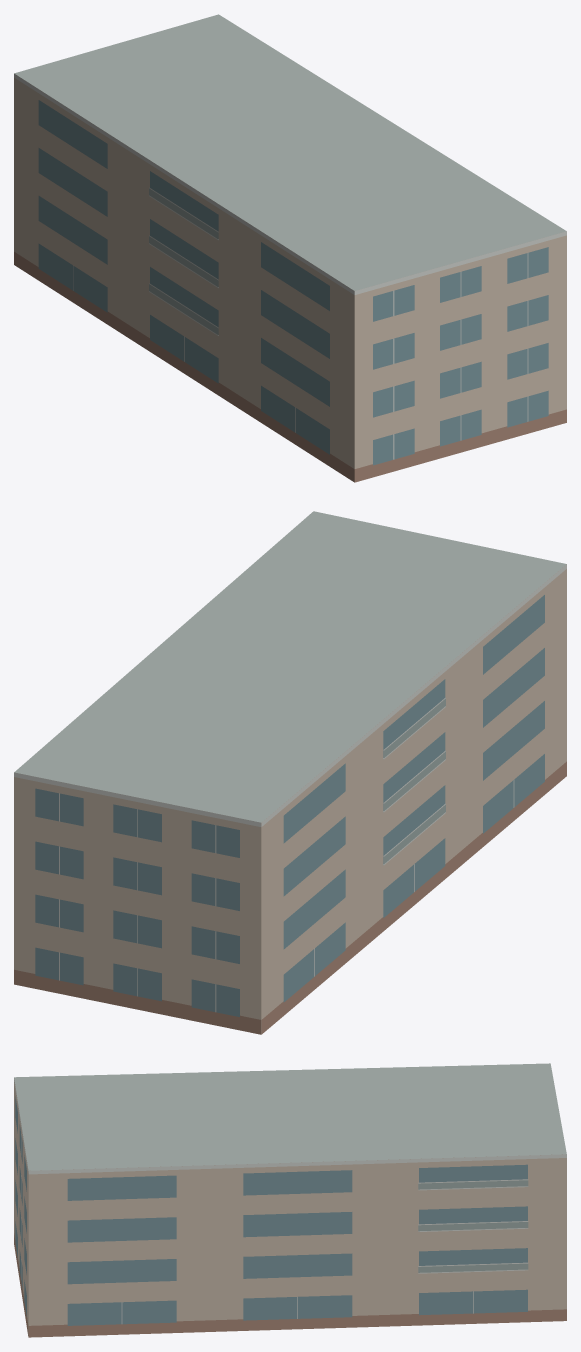
Rendered from survey-upis-32918815.glb.
3 renders of one model, top to bottom at view 1: azimuth 30°, elevation 25°; view 2: azimuth 150°, elevation 25°; view 3: azimuth 270°, elevation 25°, orthographic. The views are drawn at different scales.
Visible parts, largest first — view 1: survey-upis-32918815.tmp; view 2: survey-upis-32918815.tmp; view 3: survey-upis-32918815.tmp.
Boxes of the visible parts, bbox=[...] form: survey-upis-32918815.tmp: bbox=[14, 14, 566, 482]; survey-upis-32918815.tmp: bbox=[14, 511, 566, 1034]; survey-upis-32918815.tmp: bbox=[14, 1063, 566, 1337].
Size of the model in its own units: 15.63 by 11.3 by 33.98.
